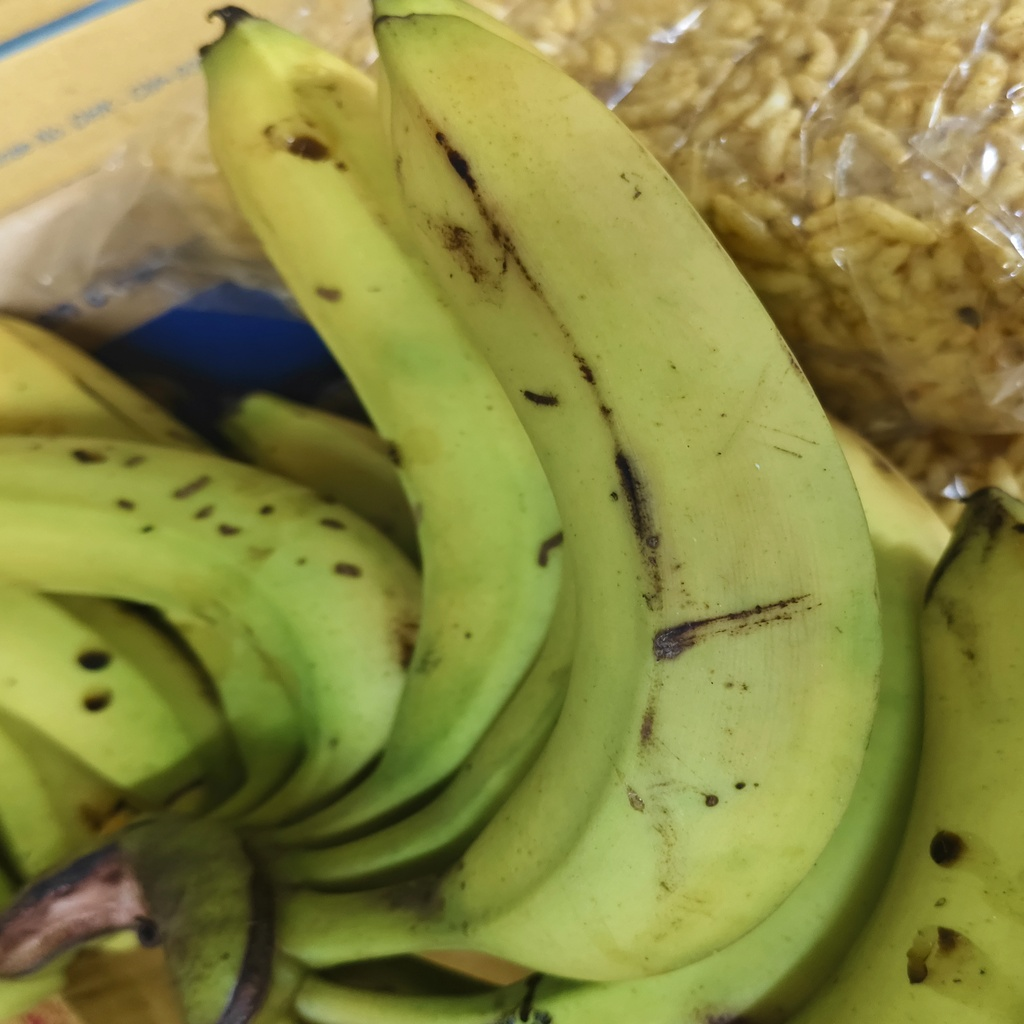healthy: (366, 5, 882, 968), (207, 30, 568, 751)
unhealthy: (1, 429, 420, 777)
